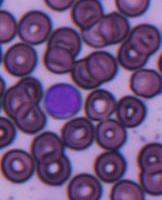L: (43, 81, 82, 119)
